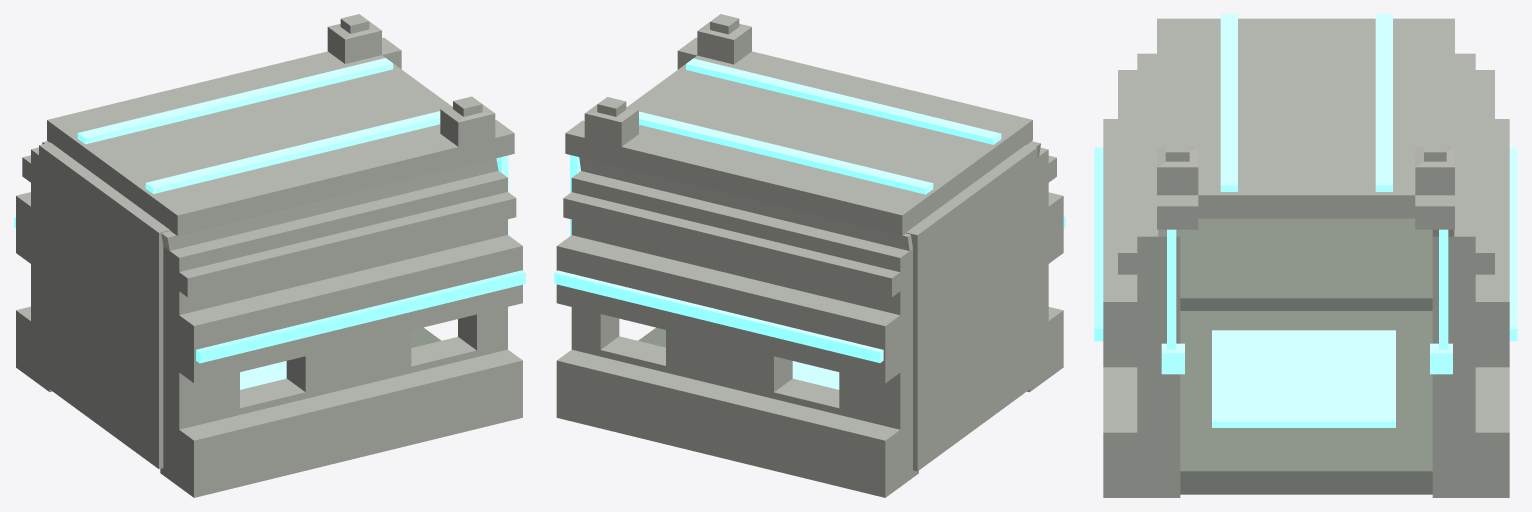
Rendered from space house 8.fbx.
3 views of the same model, side by side, from view 1: azimuth 30°, elevation 25°; view 2: azimuth 150°, elevation 25°; view 3: azimuth 270°, elevation 25° (orthographic). The views are drawn at different scales.
Visible parts, largest first — view 1: Cube, Cube.003, Cube.004, Cube.011, Cube.009, Cube.001, Cube.013, Cube.014; view 2: Cube.001, Cube.003, Cube.004, Cube, Cube.012, Cube.013, Cube.009, Cube.014; view 3: Cube.003, Cube.002, Cube.001, Cube, Cube.010, Cube.014, Cube.009, Cube.013, Cube.011, Cube.012, Cube.005, Cube.006 (+2 smaller).
Boxes of the visible parts, x1,y1,x2,y2 form: Cube: (160,158,522,497); Cube.003: (47,14,514,235); Cube.004: (39,142,170,468); Cube.011: (196,270,525,363); Cube.009: (77,58,393,144); Cube.001: (16,141,52,391); Cube.013: (145,111,440,193); Cube.014: (240,361,286,389); Cube.001: (556,157,918,497); Cube.003: (565,14,1032,235); Cube.004: (906,145,1037,471); Cube: (1027,141,1063,392); Cube.012: (554,270,883,362); Cube.013: (686,58,1001,144); Cube.009: (639,111,933,194); Cube.014: (792,361,839,389); Cube.003: (1157,18,1454,229); Cube.002: (1180,311,1432,494); Cube.001: (1432,53,1509,497); Cube: (1103,53,1180,497); Cube.010: (1180,218,1432,310); Cube.014: (1212,330,1395,427); Cube.009: (1375,14,1392,191); Cube.013: (1220,14,1237,191); Cube.011: (1094,147,1103,341); Cube.012: (1509,147,1517,341); Cube.005: (1439,229,1448,349); Cube.006: (1167,229,1176,349).
Size of the model in its own units: 1137 by 913 by 1035.
